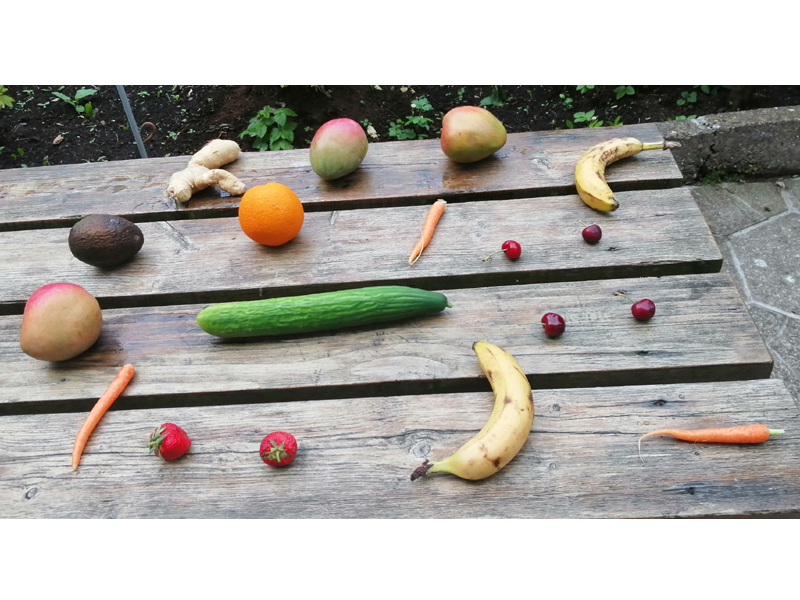avocado: (61, 208, 148, 274)
banana: (410, 341, 538, 491), (567, 131, 691, 220)
carrot: (57, 361, 139, 471), (626, 414, 790, 454), (399, 198, 455, 269)
cherry: (473, 233, 529, 270), (608, 290, 663, 324), (521, 310, 571, 339), (566, 222, 607, 246)
cucumber: (187, 284, 456, 337)
ginger: (157, 130, 245, 198)
mango: (15, 281, 104, 362), (303, 115, 373, 179), (439, 100, 510, 163)
orange: (237, 184, 308, 247)
strawberry: (150, 418, 194, 464), (255, 427, 298, 472)
